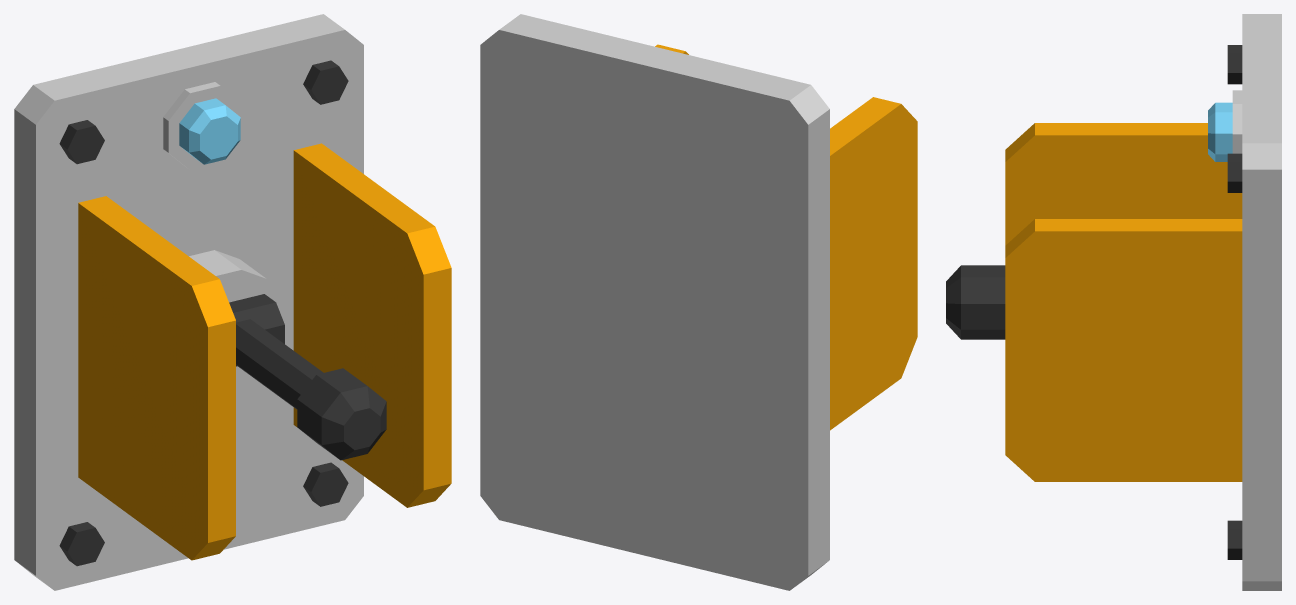
The model's file is ai_toggle_switch.glb.
3 views of the same model, side by side, from view 1: azimuth 30°, elevation 25°; view 2: azimuth 150°, elevation 25°; view 3: azimuth 270°, elevation 25° (orthographic). The views are drawn at different scales.
Visible parts, largest first — view 1: Housing, Guard, Switch, Bolts, Indicator Light; view 2: Housing, Guard; view 3: Guard, Housing, Switch, Bolts, Indicator Light.
Boxes of the visible parts, box(x1,y1,x2,y2) form: Housing: box(14, 14, 363, 590); Guard: box(78, 143, 451, 560); Switch: box(229, 294, 386, 460); Bolts: box(59, 60, 348, 566); Indicator Light: box(179, 98, 240, 164); Housing: box(480, 14, 829, 590); Guard: box(655, 44, 917, 430); Guard: box(1005, 123, 1242, 481); Housing: box(1232, 14, 1281, 590); Switch: box(946, 265, 1005, 339); Bolts: box(1227, 45, 1242, 559); Indicator Light: box(1208, 102, 1232, 161).
Bounding box in the file's own units: 0.07 × 0.1 × 0.068.
